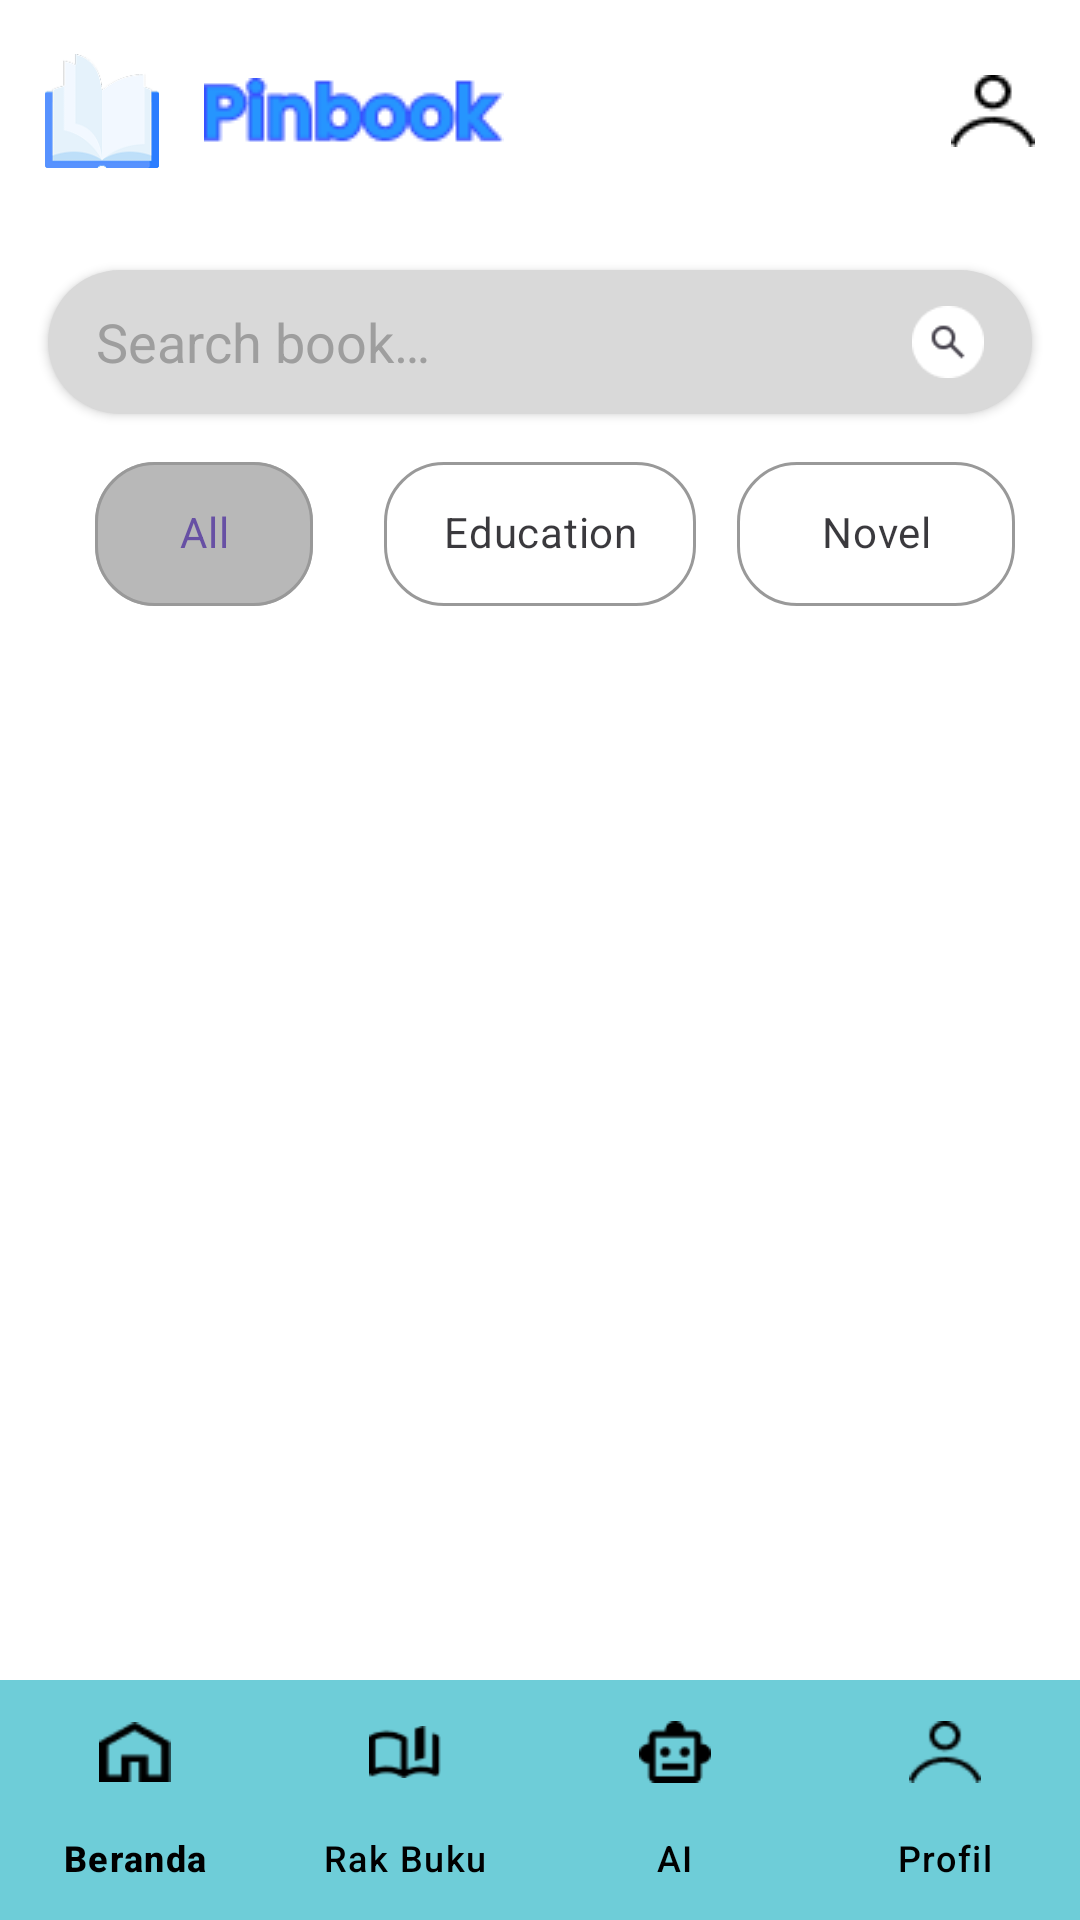

Icon click points for this 1080px x 1920px phone screenshot, format [x,y]:
profile: [993,111]
